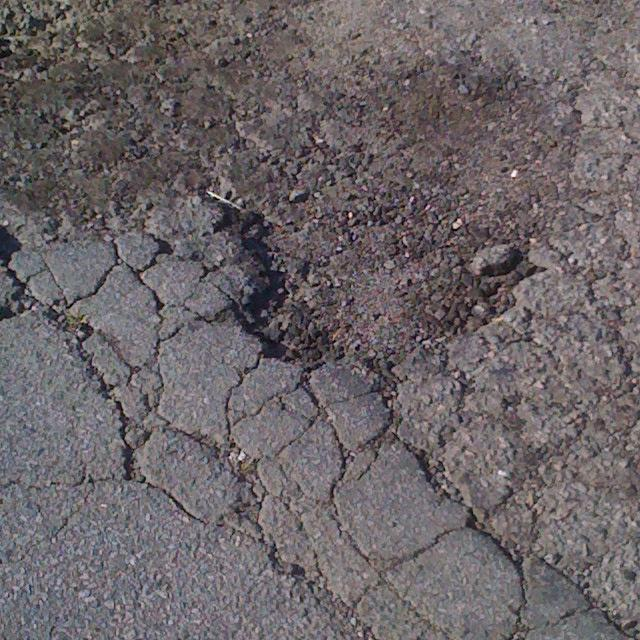lubang_kecil: (0, 0, 590, 413)
retak_memanjang: (126, 340, 640, 640)
